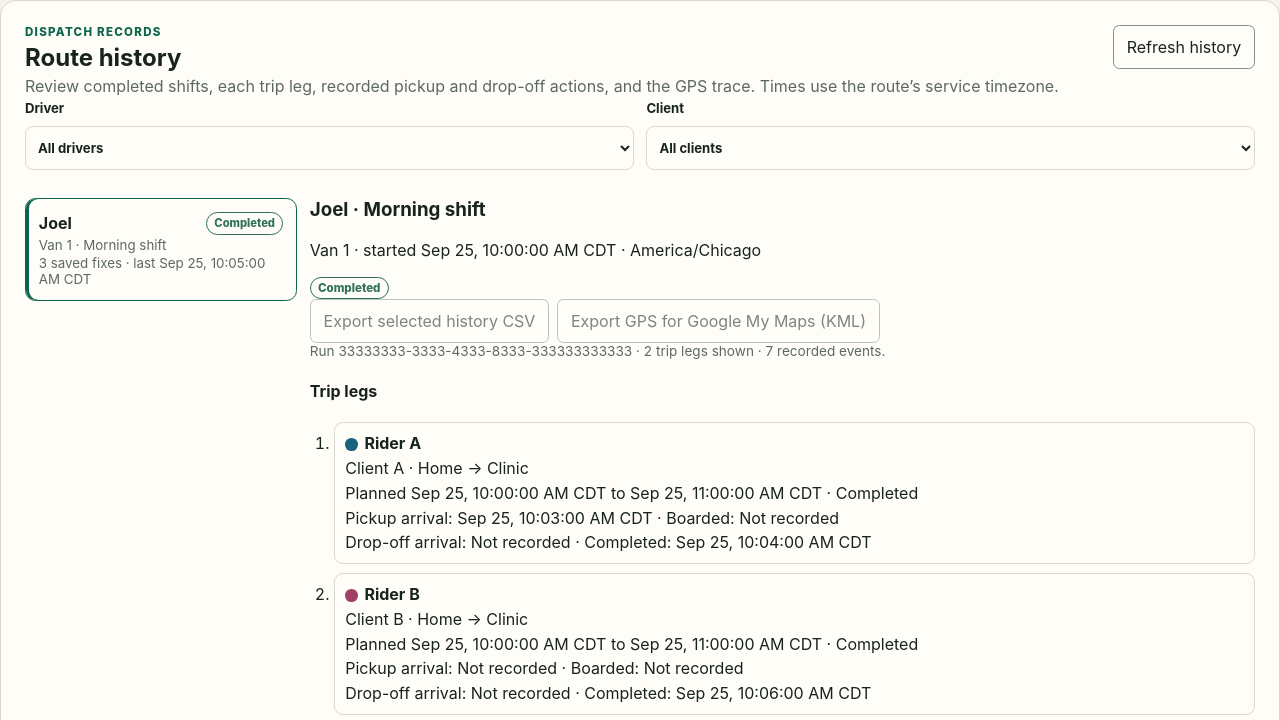
Test: filters real client accounts and bounds the displayed GPS fixes to their leg actions
Expected: the text "Rider A" is shown, [364,433,421,453]
Expected: the text "Rider B" is shown, [364,584,420,604]
Select "Client A" in the dropdown named "Filter route history by client" at [951, 148], box [646,126,1255,170]
(page scrolled)
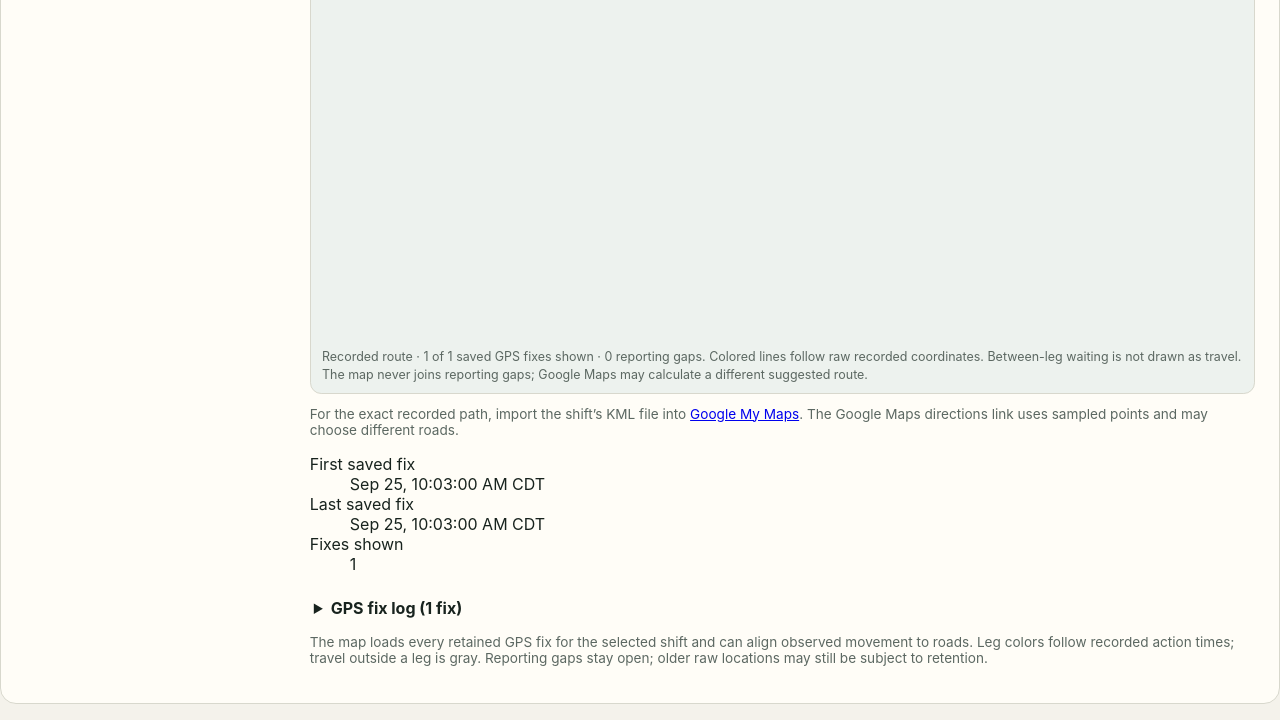
Expected: the text "Rider B" is gone
Expected: the heading "GPS fix log (1 fix)" is shown, [331,598,462,618]
